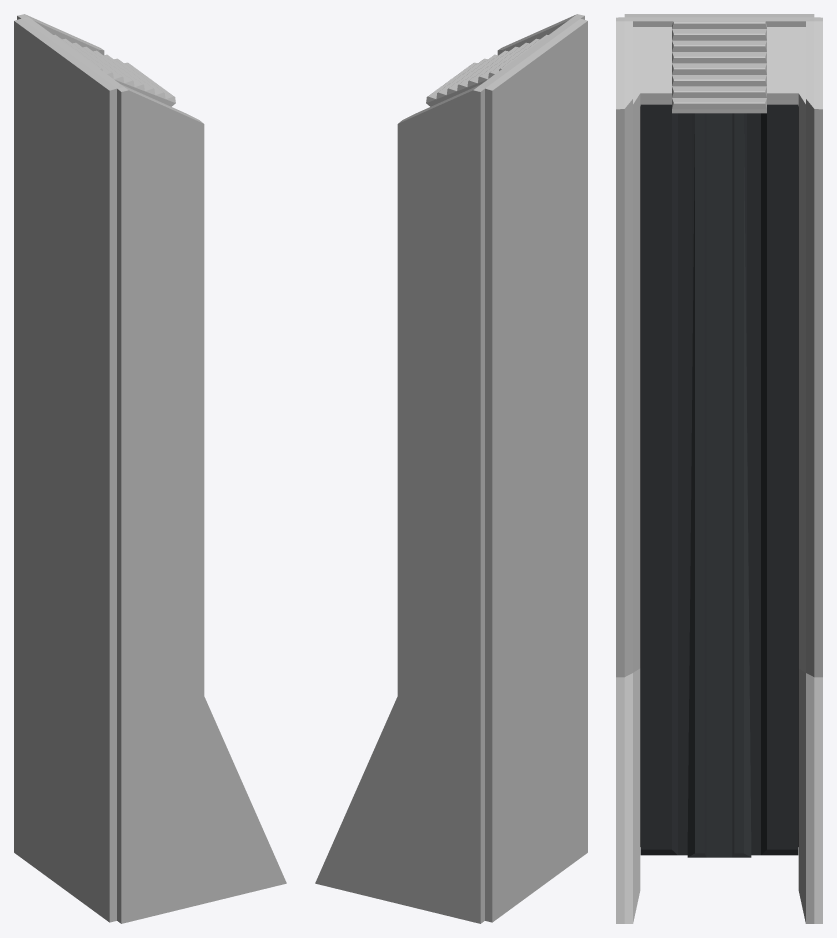
Rendered from SM_Bld_Gate_Fort_Side_01.fbx.
3 views of the same model, side by side, from view 1: azimuth 30°, elevation 25°; view 2: azimuth 150°, elevation 25°; view 3: azimuth 270°, elevation 25° (orthographic).
Visible parts, largest first — view 1: SM_Bld_Gate_Fort_Side_01; view 2: SM_Bld_Gate_Fort_Side_01; view 3: SM_Bld_Gate_Fort_Side_01.
Boxes of the visible parts, bbox=[...] form: SM_Bld_Gate_Fort_Side_01: bbox=[14, 14, 286, 923]; SM_Bld_Gate_Fort_Side_01: bbox=[315, 14, 587, 923]; SM_Bld_Gate_Fort_Side_01: bbox=[616, 14, 822, 923].
Size of the model in its own units: 522 by 2401 by 545.
